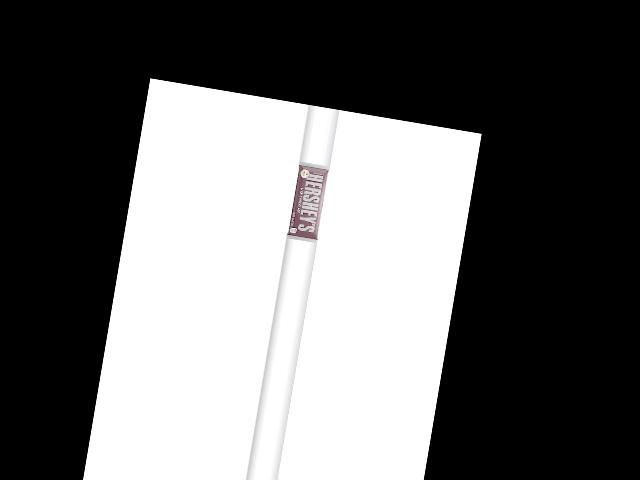chocolate: (282, 162, 328, 243)
